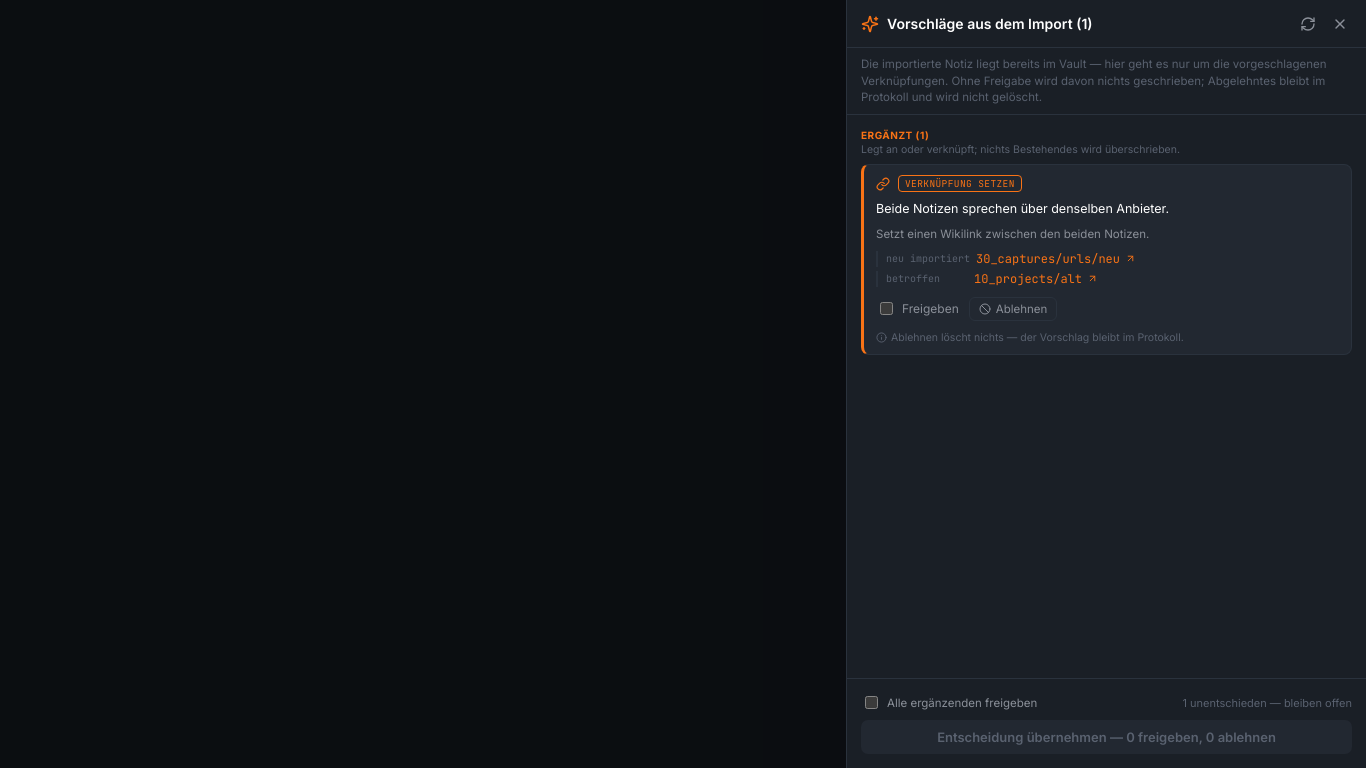
Test: IngestProposalsPanel › zeigt skipped samt Grund aus der Antwort
The width and height of the screenshot is (1366, 768).
Click the checkbox with test id "approve-01LINK".
click(886, 309)  # box [880,302,893,315]
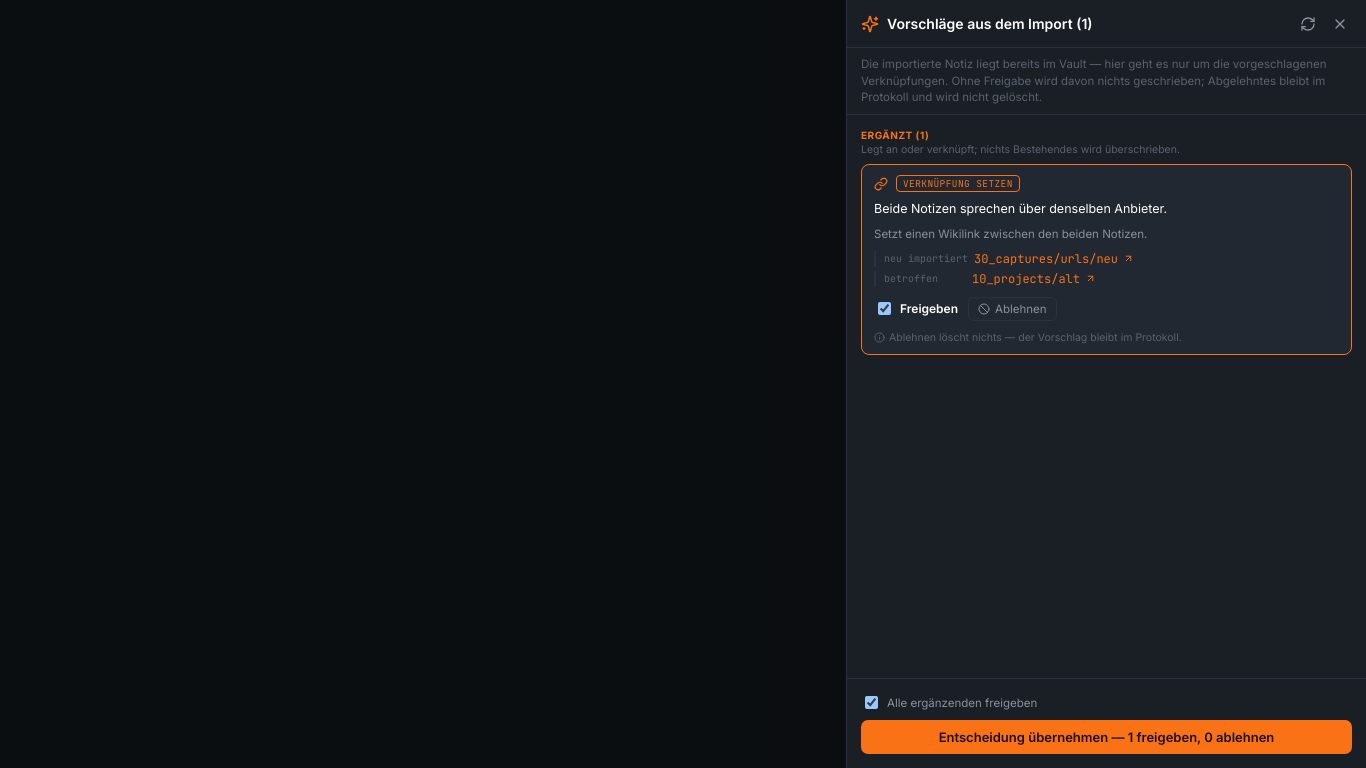
Click the button with test id "apply-decisions".
click(1106, 737)  # box [861,720,1352,754]
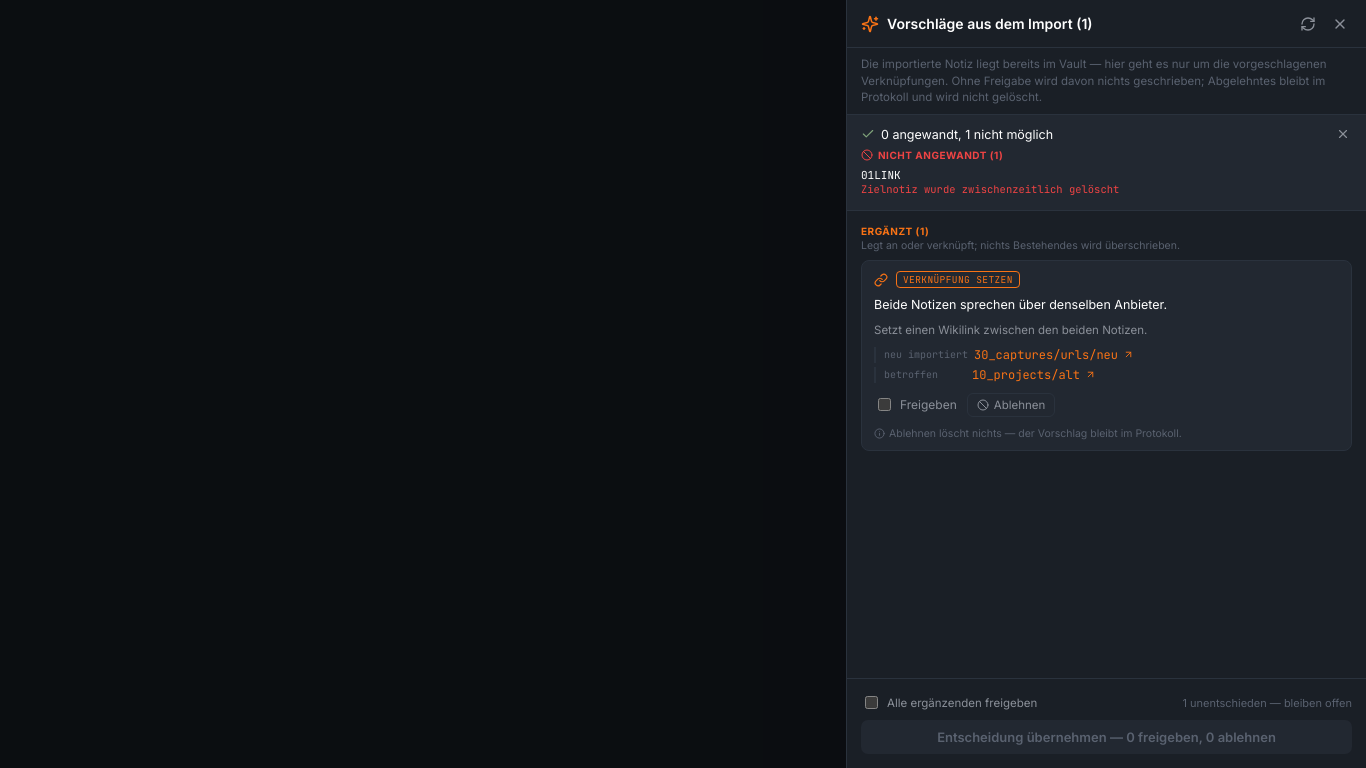
Now the text "Zielnotiz wurde zwischenzeitlich gelöscht" is shown, box [861,182,1119,196]
